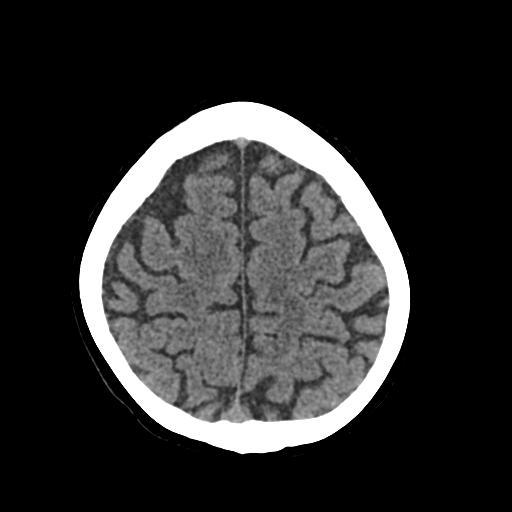Normal_Brain: (18, 33, 505, 501)
